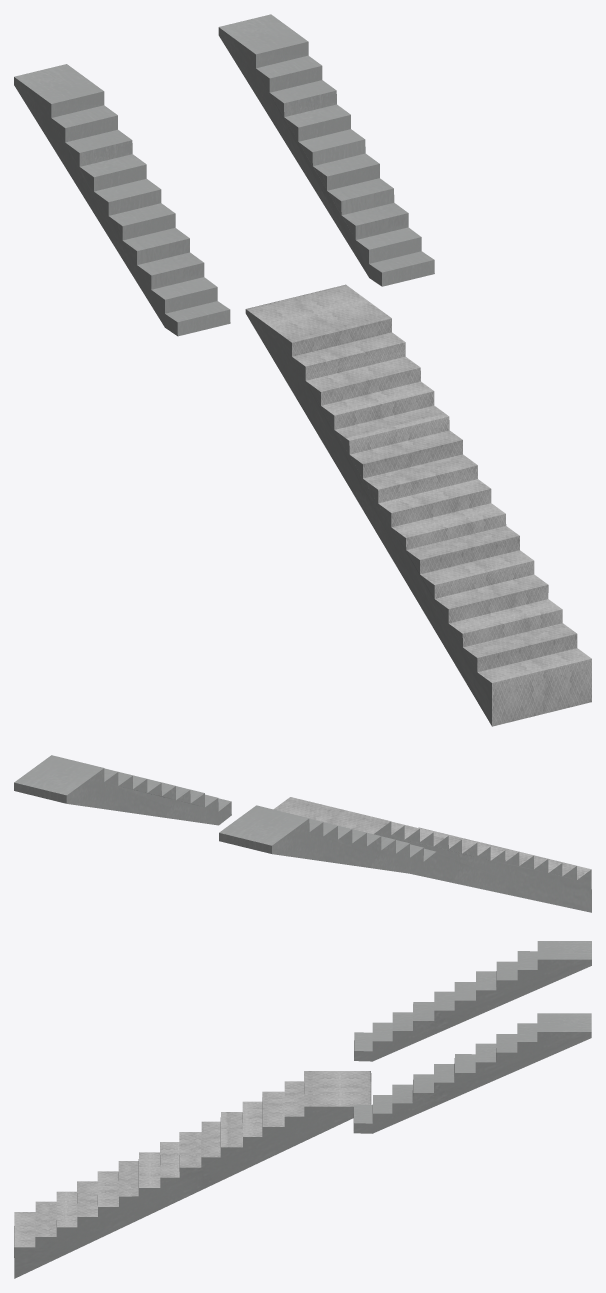
The model's file is Stair_02_Ufа.FBX.
The picture shows the model from 3 angles, top to bottom: view 1: azimuth 30°, elevation 25°; view 2: azimuth 150°, elevation 25°; view 3: azimuth 270°, elevation 25°; orthographic projection. The views are drawn at different scales.
Visible parts, largest first — view 1: Stair_02_Ufa; view 2: Stair_02_Ufa; view 3: Stair_02_Ufa.
Part boxes in pixels (x1,y1,x2,y2): Stair_02_Ufa: (14,14,591,726); Stair_02_Ufa: (14,755,591,912); Stair_02_Ufa: (14,941,591,1278).
Size of the model in its own units: 4.61 by 6.48 by 12.38.
Materials: 1 (1 with a texture image).
